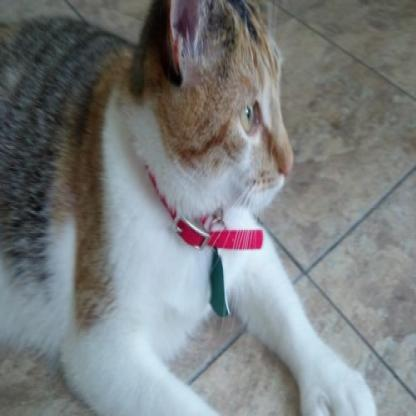Target: (0, 0, 385, 416)
